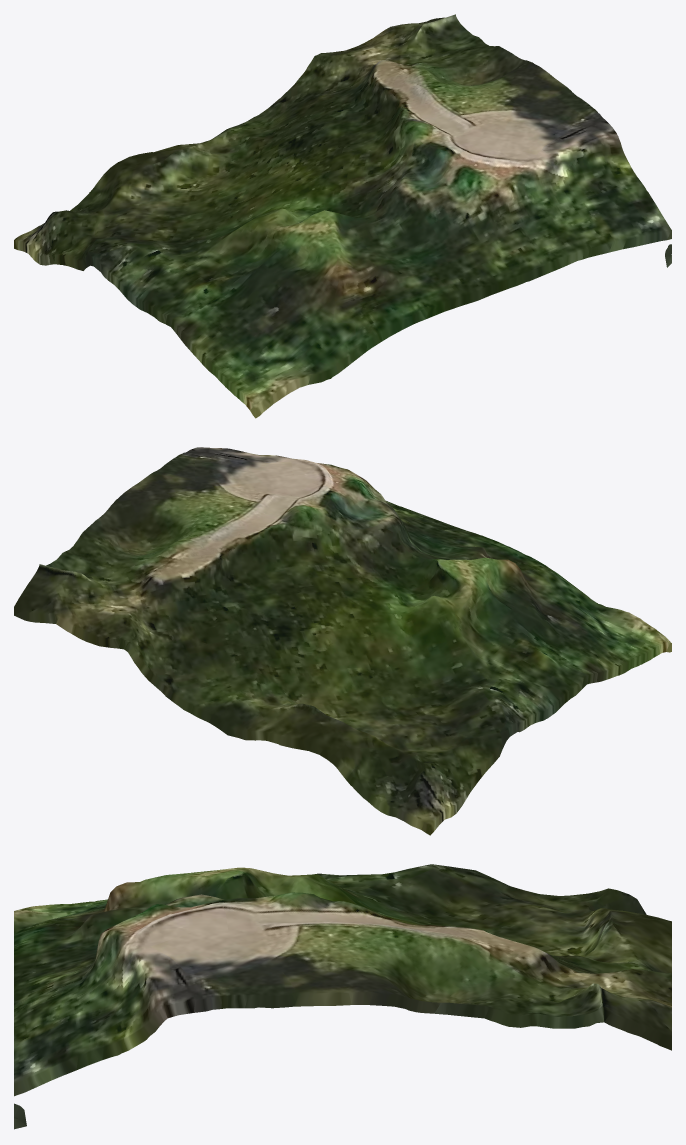
The model's file is z20-167755-405196-h0-yup-uvflip-v3-world.glb.
3 renders of one model, top to bottom at view 1: azimuth 30°, elevation 25°; view 2: azimuth 150°, elevation 25°; view 3: azimuth 270°, elevation 25°, orthographic. The views are drawn at different scales.
Bounding box in the file's own units: 30.16 × 11.12 × 30.32.
1 material, 1 textured.
